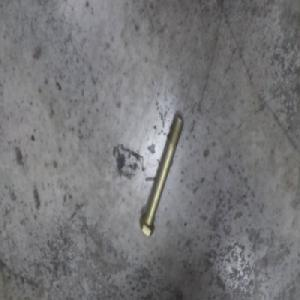Bolt: (141, 113, 186, 237)
